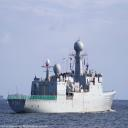Fragata: (9, 35, 118, 116)
